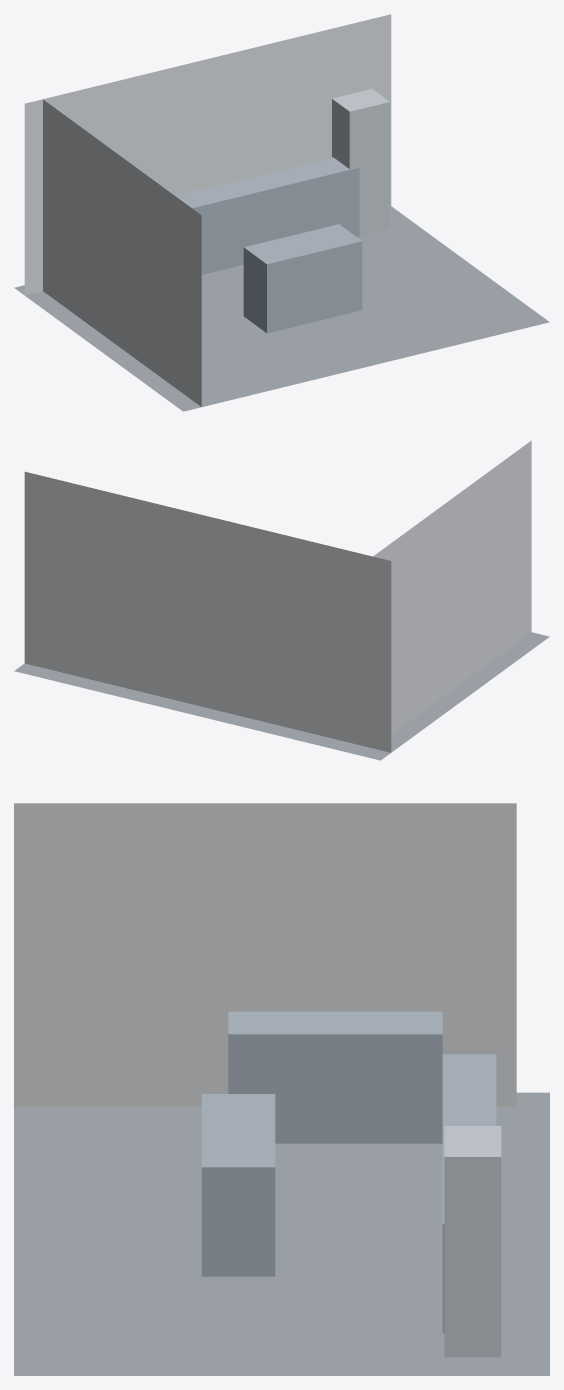
Rendered from result.glb.
3 views of the same model, one above another, from view 1: azimuth 30°, elevation 25°; view 2: azimuth 150°, elevation 25°; view 3: azimuth 270°, elevation 25° (orthographic). The views are drawn at different scales.
Parts seen in each view (by area): view 1: Kitchen_Back_Wall_Plane, Kitchen_Floor_Plane, Kitchen_Left_Wall_Plane, Kitchen_Back_Counter_Block, Kitchen_Island_Block, Kitchen_Refrigerator_Block; view 2: Kitchen_Back_Wall_Plane, Kitchen_Left_Wall_Plane, Kitchen_Floor_Plane; view 3: Kitchen_Left_Wall_Plane, Kitchen_Floor_Plane, Kitchen_Side_Counter_Block, Kitchen_Island_Block, Kitchen_Refrigerator_Block, Kitchen_Back_Counter_Block.
Part boxes in pixels (x1=…): Kitchen_Back_Wall_Plane: x1=24, y1=14, x2=391, y2=295; Kitchen_Floor_Plane: x1=14, y1=206, x2=549, y2=411; Kitchen_Left_Wall_Plane: x1=43, y1=99, x2=201, y2=406; Kitchen_Back_Counter_Block: x1=175, y1=157, x2=359, y2=274; Kitchen_Island_Block: x1=243, y1=224, x2=362, y2=333; Kitchen_Refrigerator_Block: x1=332, y1=89, x2=389, y2=235; Kitchen_Back_Wall_Plane: x1=24, y1=471, x2=391, y2=752; Kitchen_Left_Wall_Plane: x1=373, y1=440, x2=531, y2=734; Kitchen_Floor_Plane: x1=14, y1=632, x2=549, y2=760; Kitchen_Left_Wall_Plane: x1=14, y1=803, x2=516, y2=1106; Kitchen_Floor_Plane: x1=14, y1=1092, x2=549, y2=1375; Kitchen_Side_Counter_Block: x1=228, y1=1011, x2=442, y2=1143; Kitchen_Island_Block: x1=201, y1=1094, x2=275, y2=1276; Kitchen_Refrigerator_Block: x1=444, y1=1126, x2=501, y2=1357; Kitchen_Back_Counter_Block: x1=442, y1=1054, x2=496, y2=1333.
Bounding box in the file's own units: 10 × 5 × 8.
